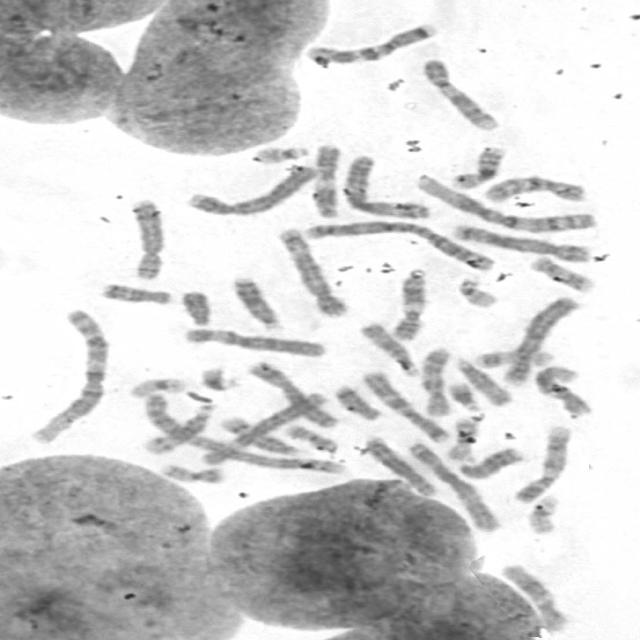A1: (22, 305, 112, 446), (408, 170, 600, 234)
A2: (133, 388, 351, 476), (298, 216, 498, 272)
A3: (401, 437, 504, 532), (336, 150, 432, 220)
B4: (496, 292, 584, 388), (182, 160, 322, 218)
B5: (272, 222, 353, 318), (445, 220, 595, 263)
C10: (478, 172, 589, 204), (414, 343, 455, 417)
C11: (386, 264, 430, 342), (309, 139, 344, 219)
C12: (498, 559, 572, 632), (529, 362, 596, 417)
C6: (194, 388, 331, 467), (177, 323, 330, 358)
C7: (358, 367, 450, 443), (301, 18, 442, 66)
C8: (360, 432, 441, 496), (122, 194, 166, 281)
C9: (416, 54, 501, 132), (509, 422, 575, 504)
D13: (228, 271, 287, 332), (455, 444, 528, 480)
D14: (138, 400, 218, 456), (214, 411, 303, 457)
D15: (356, 318, 422, 377), (450, 354, 516, 406)
E16: (446, 142, 509, 190), (443, 413, 483, 462)
E17: (524, 252, 597, 293), (471, 345, 557, 369)
E18: (329, 381, 383, 422), (95, 279, 175, 306)
F19: (522, 491, 564, 535), (125, 374, 189, 399)
F20: (281, 421, 339, 453), (155, 459, 228, 484)
G21: (442, 378, 484, 412), (196, 364, 243, 392)
G22: (454, 273, 501, 309), (249, 142, 311, 164)
X: (242, 358, 340, 430)
Y: (175, 287, 214, 326)
